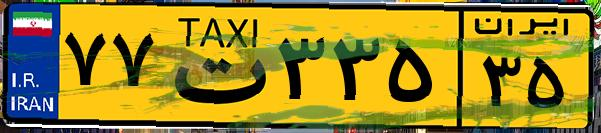3: (270, 28, 330, 110), (330, 28, 385, 110), (475, 38, 525, 113)
5: (385, 28, 445, 110), (525, 38, 570, 115)
7: (57, 26, 110, 100), (110, 28, 158, 98)
ت: (158, 12, 270, 120)
